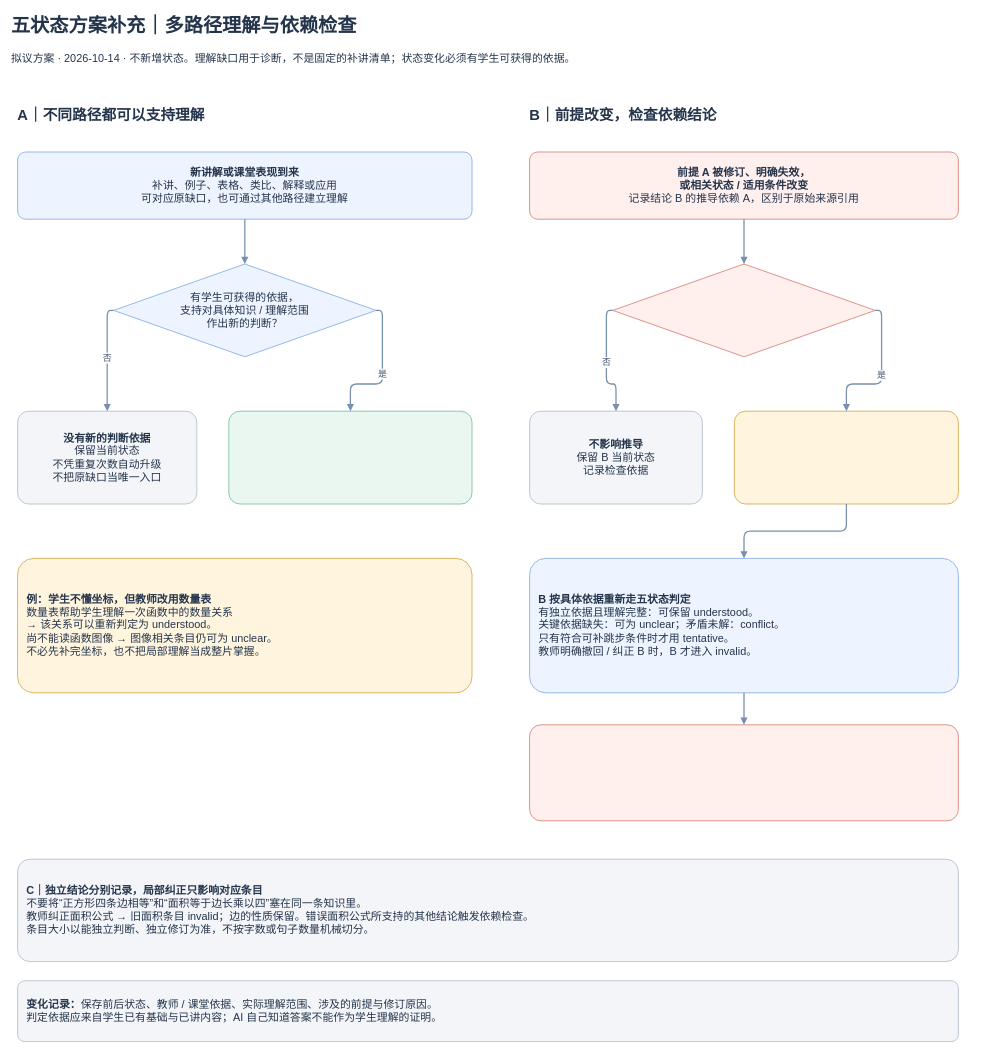
The diagram is 982 pixels wide and 1053 high, and some of its shapes have lost their labels. Here are the shapes that lost their labels. From the top down, the centre of each, then its label:
the point at 743,310: 该变化是否影响 B 所用的前提或适用条件？
the point at 350,457: 明确实际理解到了哪一层 拆分独立结论 / 理解范围 只更新有依据的部分 再走五状态判定流程
the point at 846,457: 重新检查 B 的成立依据 还有独立依据吗？ 修订后的前提仍支持推导吗？ 缺了哪部分理解依据？
the point at 744,772: 依赖检查期间 不自动把 B 判错；存在受影响且未确认的前提时，不继续无条件使用 B。 沿受影响的推导链检查后续结论；这些检查不需要新建第六种知识状态。
